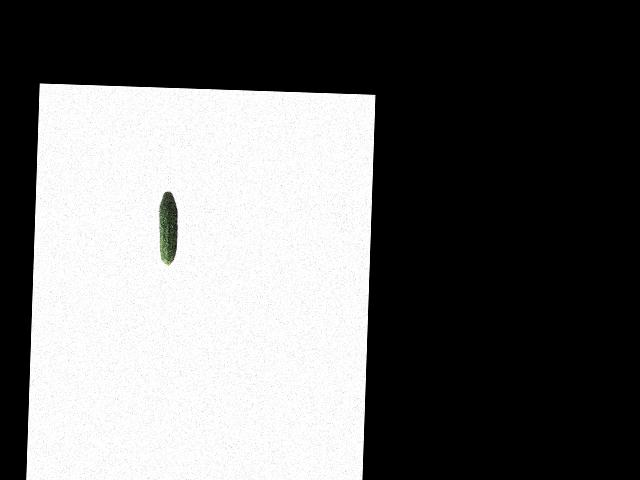cucumber: (157, 190, 178, 265)
